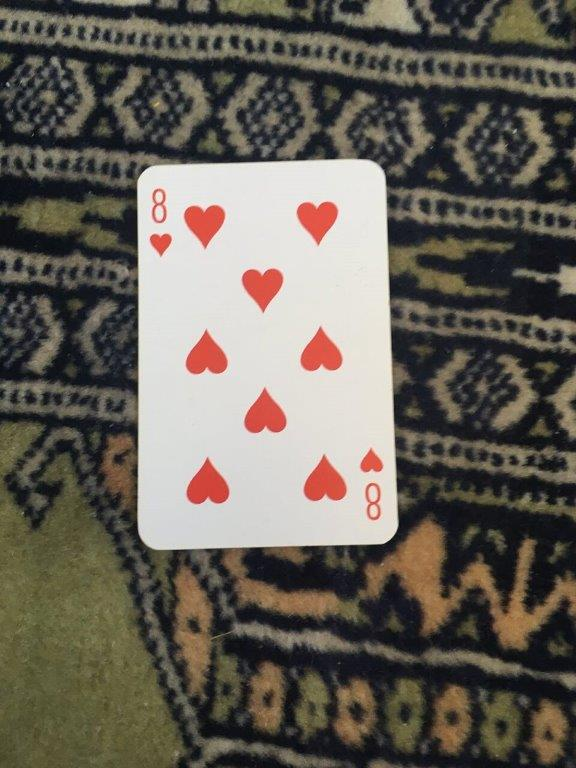8H: (133, 155, 403, 552)
